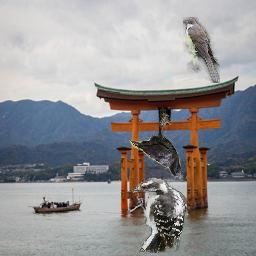Crow: (129, 114, 182, 177)
Cuckoo: (184, 17, 221, 83)
Woodpecker: (129, 177, 188, 253)
